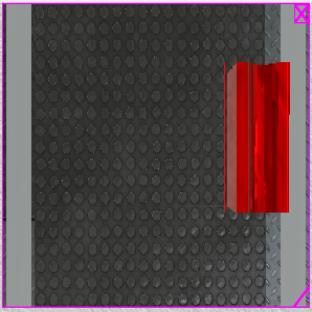objects: (224, 59, 293, 216)
